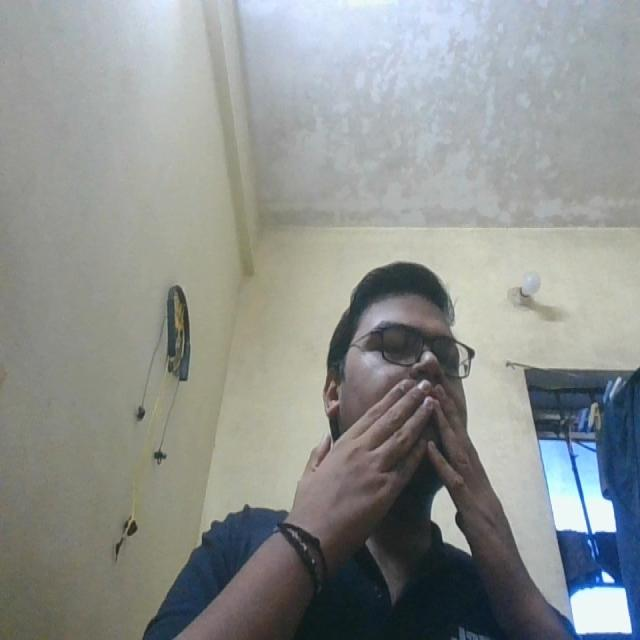Thanks: (256, 356, 526, 600)
